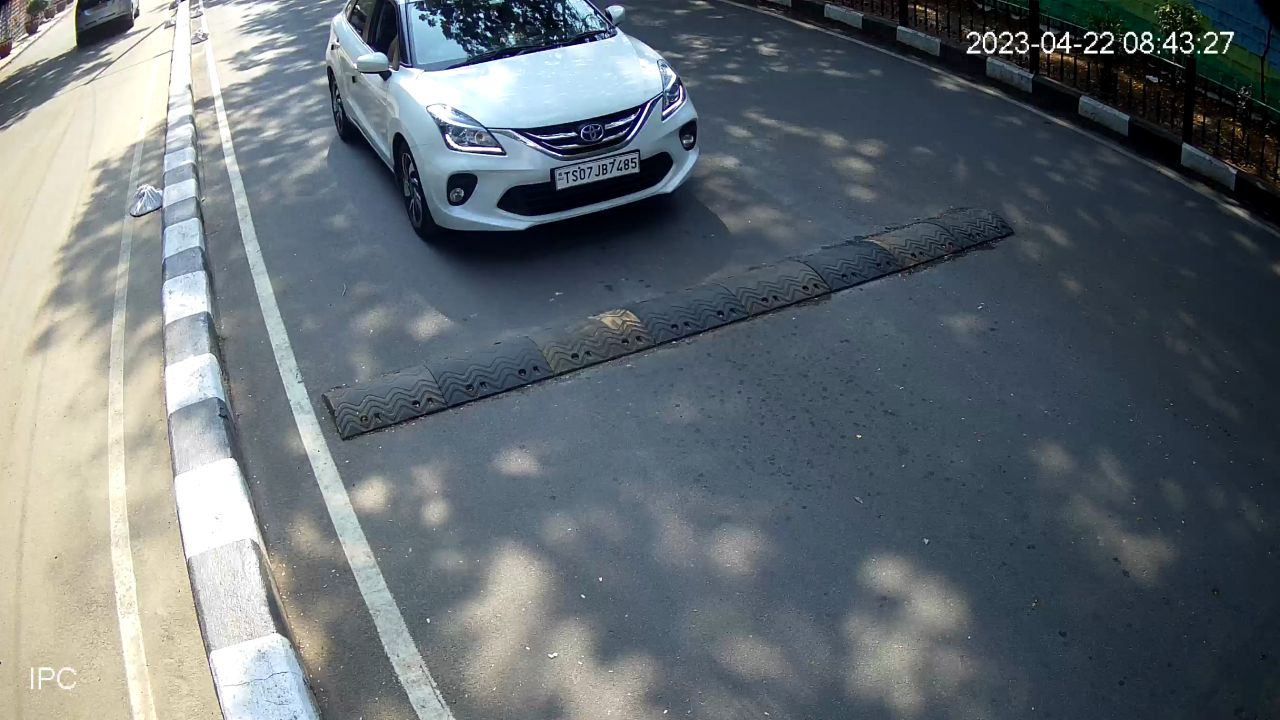license_plate: (547, 149, 645, 194)
